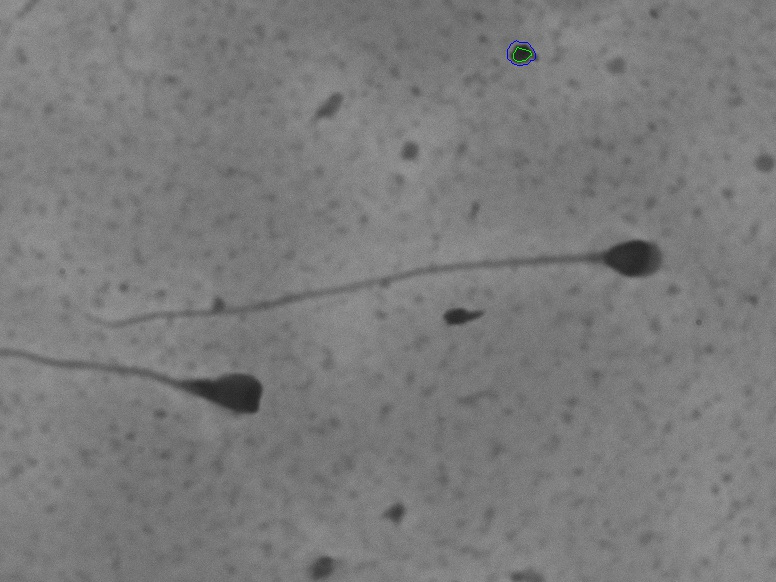Abnormal: (23, 311, 271, 469)
Normal: (50, 193, 703, 342)
